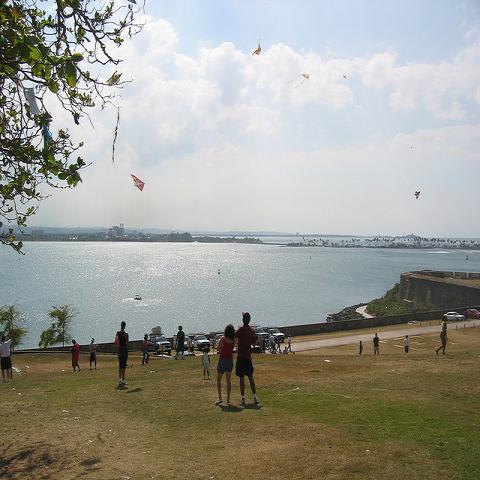car: (156, 334, 172, 354), (192, 334, 210, 351), (264, 329, 284, 342), (255, 328, 271, 344), (461, 308, 479, 320), (444, 311, 464, 321), (184, 335, 194, 352)
